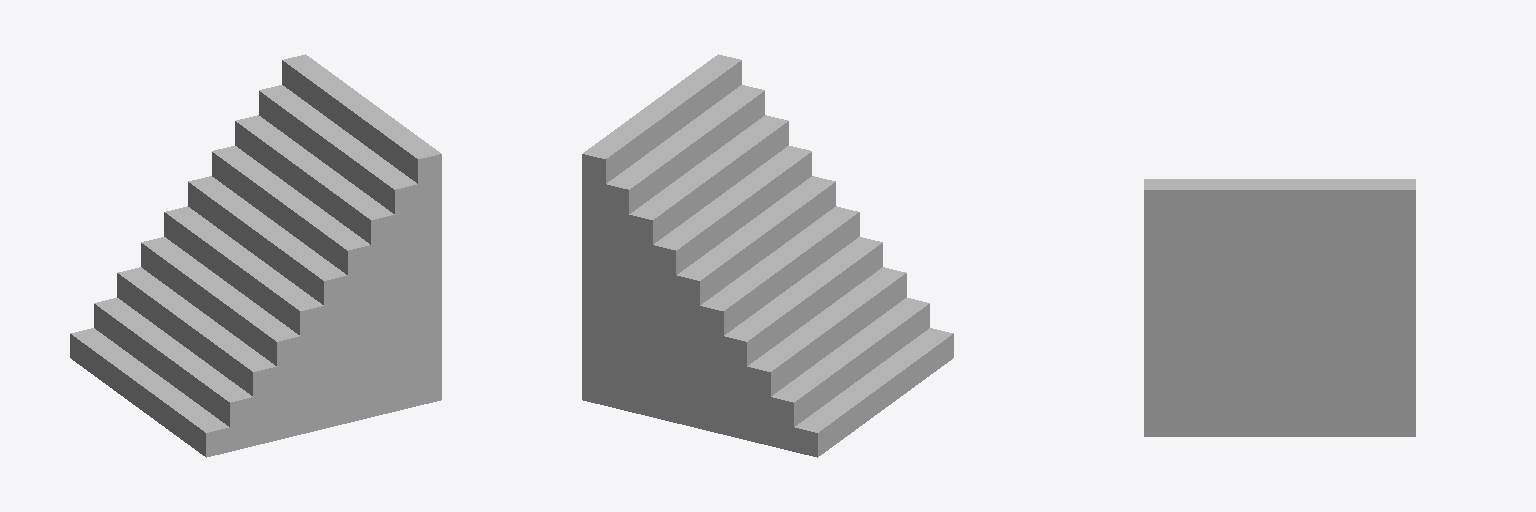
Rendered from stair_simple.obj.
3 views of the same model, side by side, from view 1: azimuth 30°, elevation 25°; view 2: azimuth 150°, elevation 25°; view 3: azimuth 270°, elevation 25° (orthographic).
Parts seen in each view (by area): view 1: stair_simple; view 2: stair_simple; view 3: stair_simple.
Boxes of the visible parts, box(x1,y1,x2,y2) form: stair_simple: box(70, 54, 441, 457); stair_simple: box(582, 54, 953, 457); stair_simple: box(1144, 179, 1415, 436).
Bounding box in the file's own units: 20 × 20 × 20.